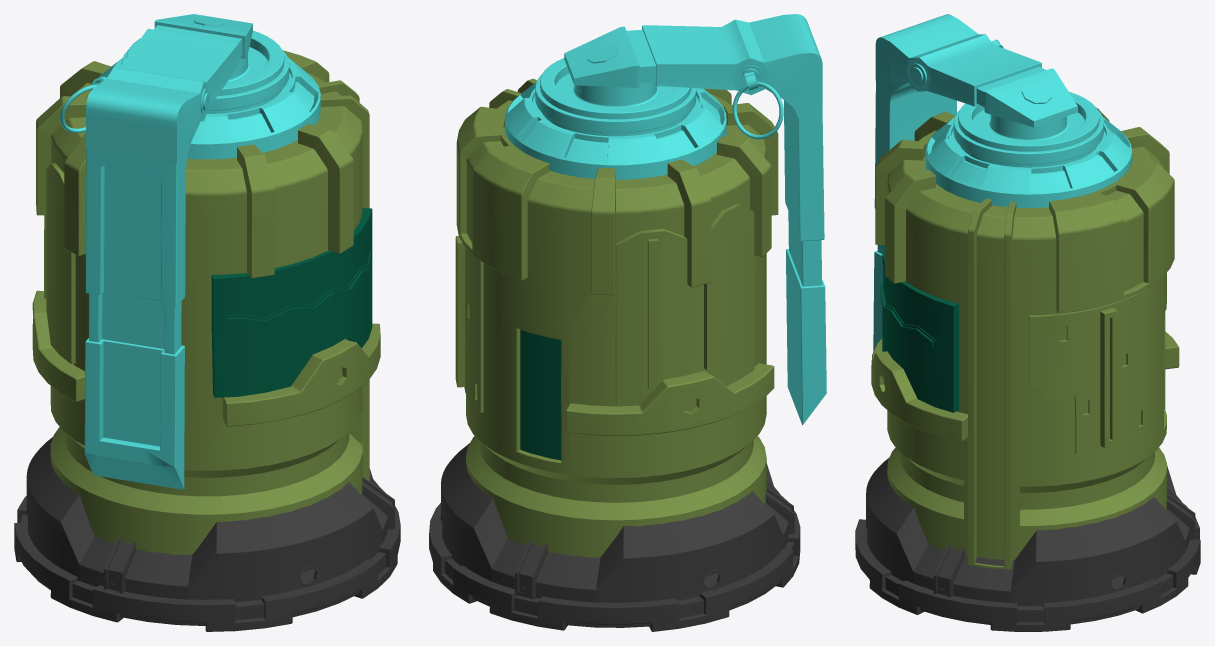
The model's file is uploads_files_2546315_EMP+Grenade(fbx).fbx.
3 renders of one model, left to right at view 1: azimuth 30°, elevation 25°; view 2: azimuth 150°, elevation 25°; view 3: azimuth 270°, elevation 25°, orthographic. The views are drawn at different scales.
Visible parts, largest first — view 1: polySurface17; view 2: polySurface17; view 3: polySurface17.
Boxes of the visible parts, x1,y1,x2,y2 form: polySurface17: [14, 14, 400, 631]; polySurface17: [429, 14, 826, 631]; polySurface17: [855, 14, 1200, 631].
Size of the model in its own units: 70.23 by 105 by 69.27.
